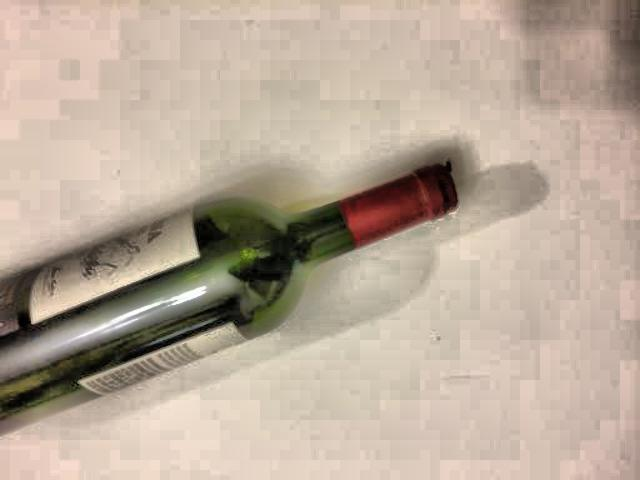Bottles: (0, 148, 480, 443)
